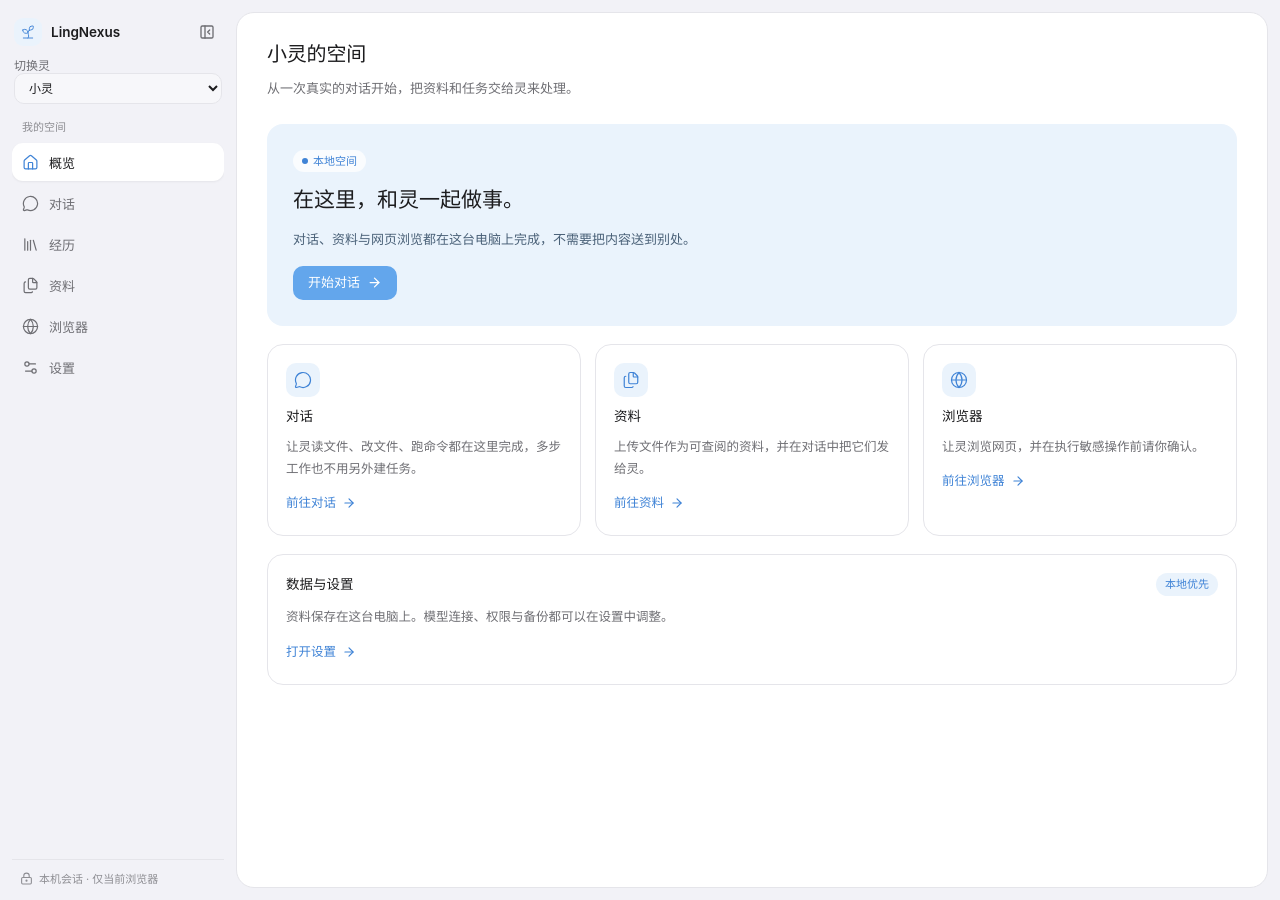
Test: 用量仅展示聊天口径，缺失 token 与费用不会变成零或推算总数
Click the button "设置" at (118, 367), box x1=12 y1=348 x2=224 y2=386
(page scrolled)
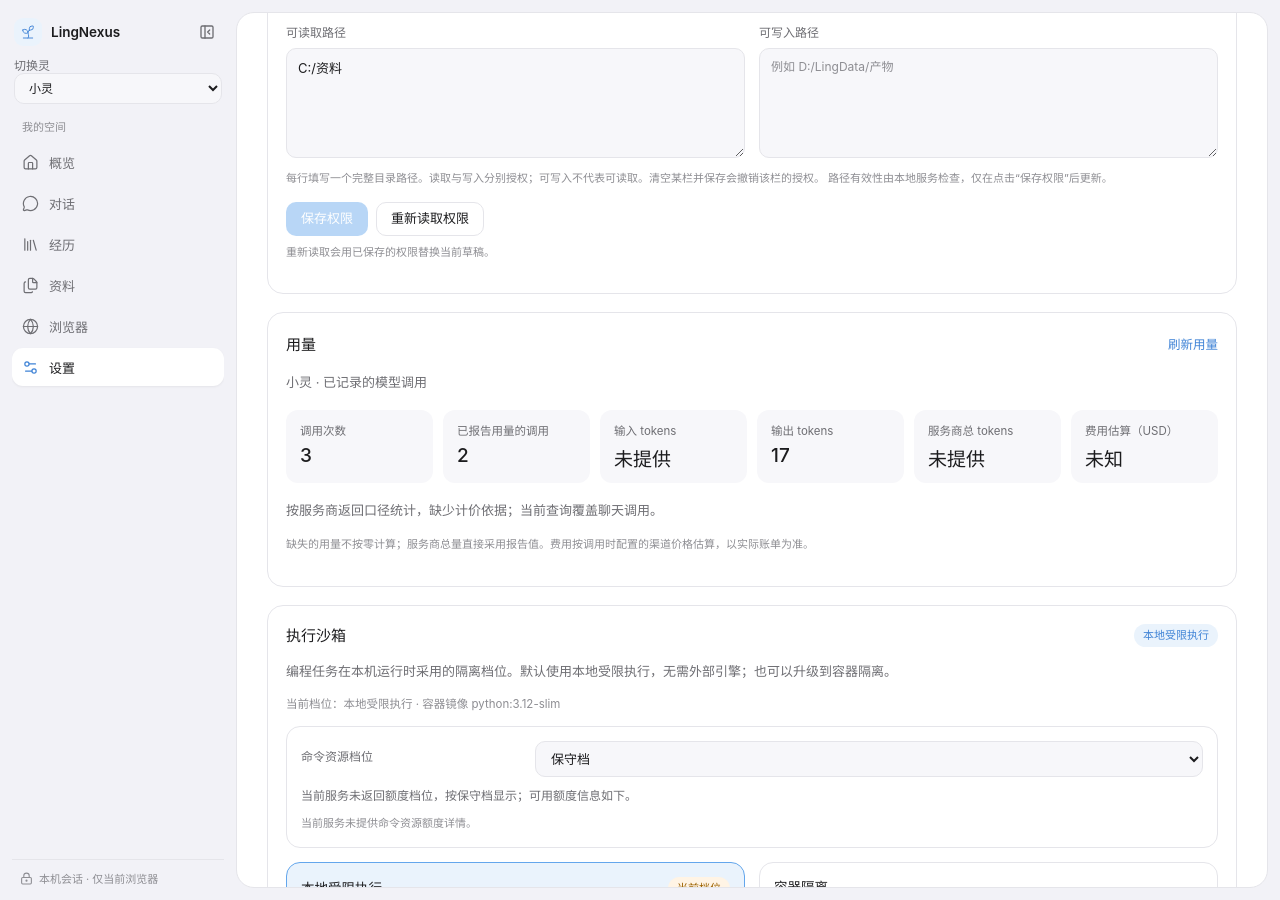
Expected: the text "按服务商返回口径统计，缺少计价依据；当前查询覆盖聊天调用。" is shown, x1=286 y1=502 x2=663 y2=518
Expected: the text named "调用次数" reads "3", x1=300 y1=444 x2=312 y2=467
Expected: the text named "已报告用量的调用" reads "2", x1=457 y1=444 x2=469 y2=467
